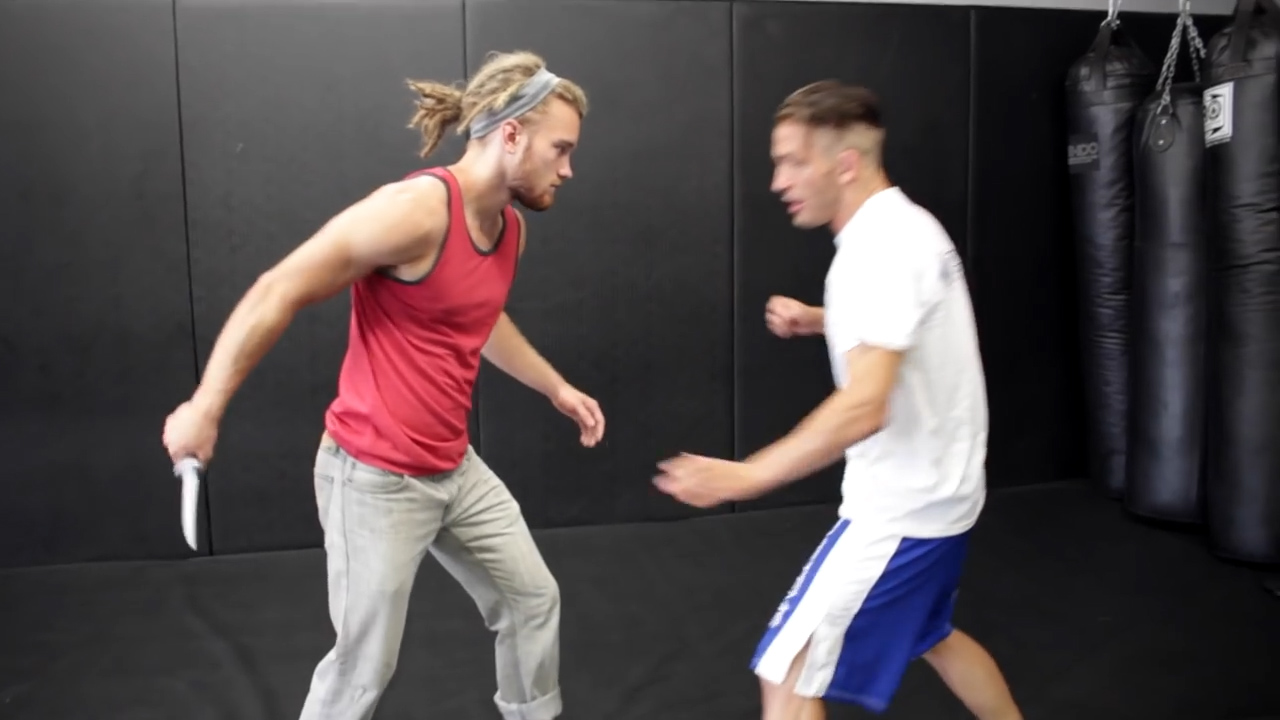knife: (157, 406, 218, 555)
